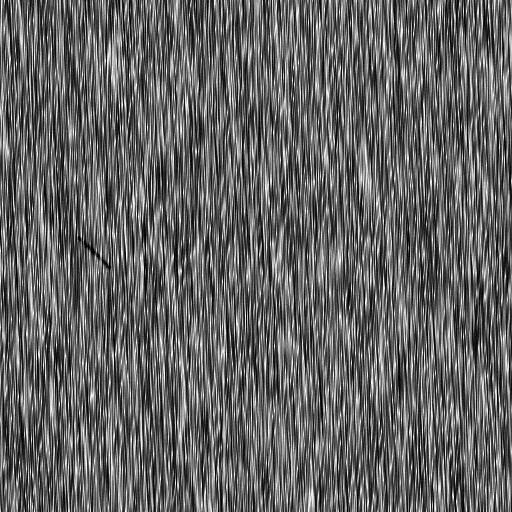DefectTypeC: (78, 233, 115, 269)
